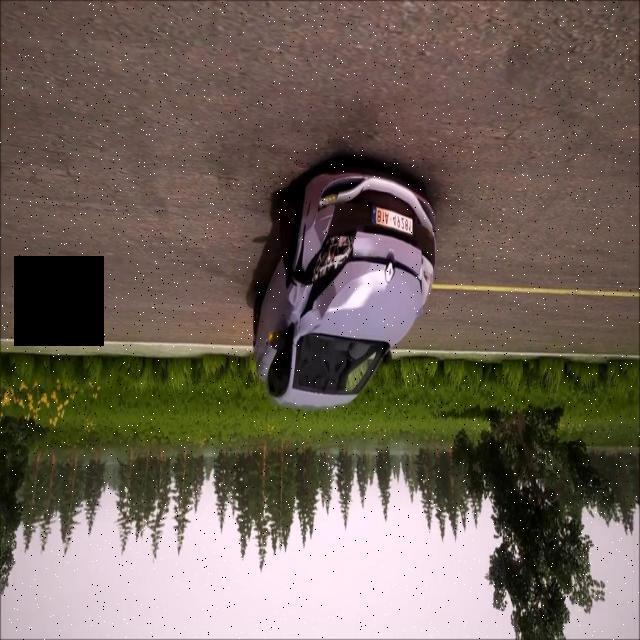vehicle: (250, 113, 460, 460)
